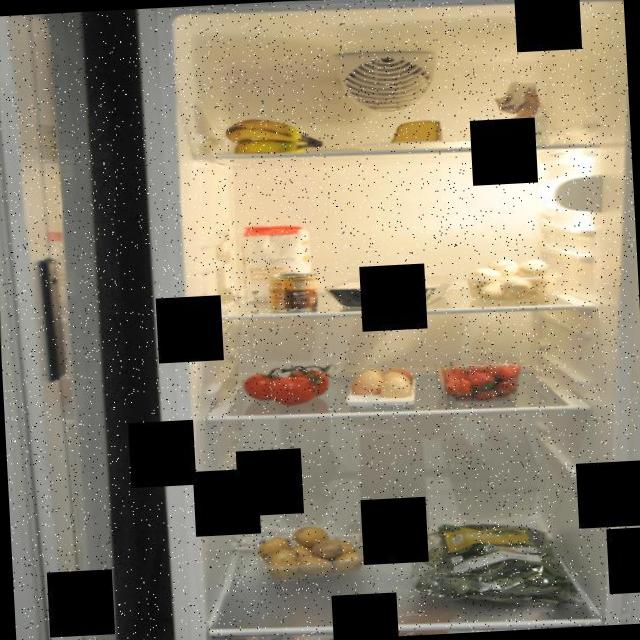Champiñones: (467, 252, 557, 300)
Huevos: (346, 362, 421, 408)
Patata: (252, 522, 365, 580)
Plátano: (224, 110, 328, 160)
Queso: (388, 114, 447, 148)
Tomate: (241, 362, 339, 412)
